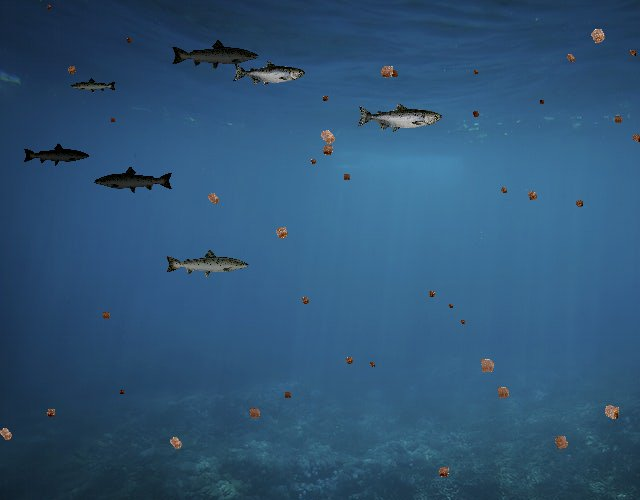Fish: (170, 39, 260, 71), (164, 248, 250, 279), (356, 102, 442, 133), (93, 165, 174, 195), (233, 60, 306, 87), (22, 143, 90, 167), (70, 77, 117, 94)
Pellet: (312, 122, 342, 152), (473, 351, 501, 379), (491, 380, 515, 404), (201, 186, 225, 210), (522, 185, 542, 205), (307, 155, 320, 168), (458, 316, 468, 326)
